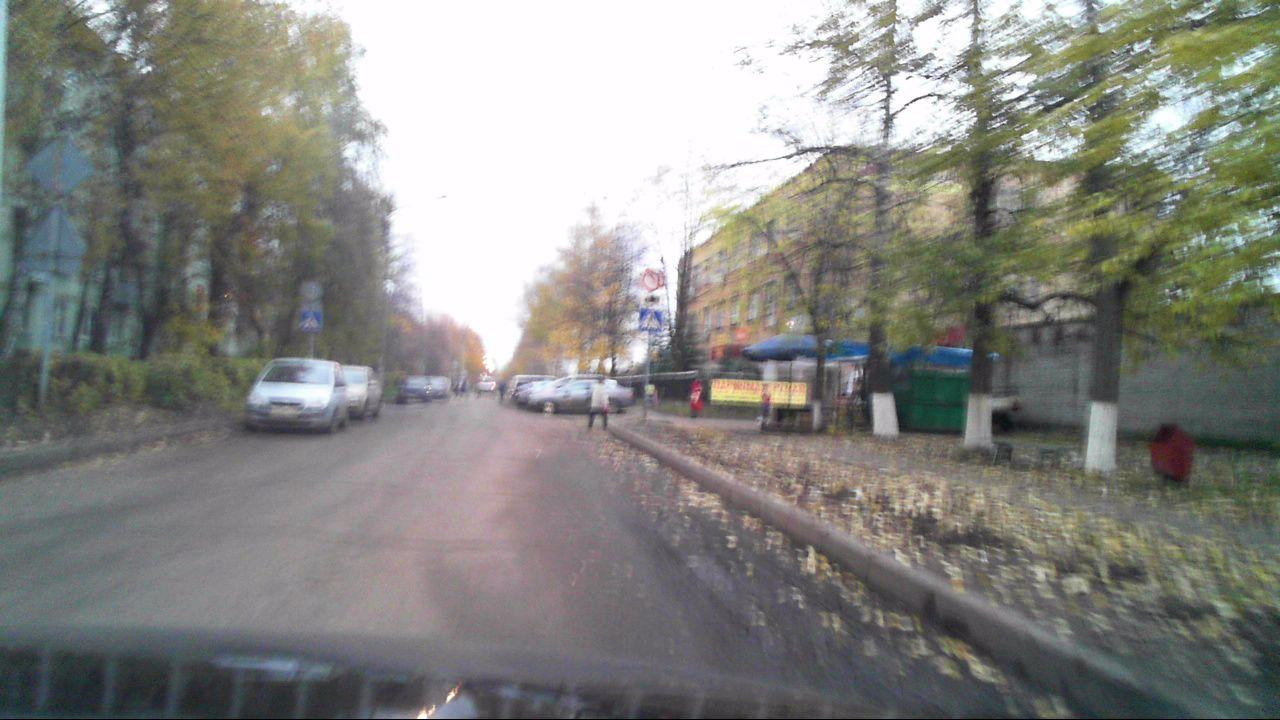3_18_2: (642, 271, 662, 291)
5_19_1: (639, 309, 662, 333)
5_19_2: (301, 310, 323, 329)
8_4_1: (640, 292, 662, 308)
